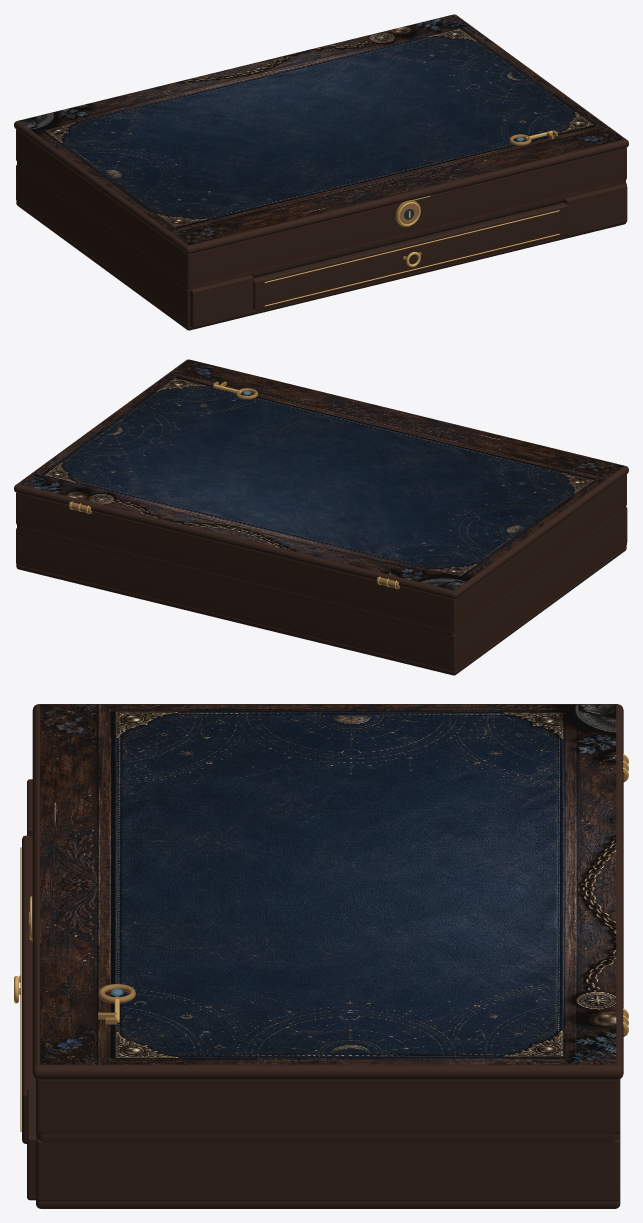
File: arcane-desk-wide-v1.glb
3 views of the same model, one above another, from view 1: azimuth 30°, elevation 25°; view 2: azimuth 150°, elevation 25°; view 3: azimuth 270°, elevation 25° (orthographic). The views are drawn at different scales.
Parts seen in each view (by area): view 1: OuterMatFace, CaseEnd, LightingDrawerFront, DeskLidCore, UnderframeSide, CaseSide, CaseBase, DrawerFrontSupport, DrawerFrontSupport.001, UnderframeBase, DrawerFrontInlay.001, DrawerFrontInlay; view 2: OuterMatFace, UnderframeBack, CaseEnd.001, DeskLidCore, UnderframeSide, CaseSide, CaseBase, UnderframeBase; view 3: OuterMatFace, UnderframeSide.001, CaseSide.001, DeskLidCore, CaseBase, UnderframeBase, LightingDrawerFront, UnderframeBack, DrawerFrontSupport.001, CaseEnd.001, CaseEnd.
Boxes of the visible parts, <box> form: OuterMatFace: <box>19,15,623,245</box>; CaseEnd: <box>183,147,626,286</box>; LightingDrawerFront: <box>253,202,567,310</box>; DeskLidCore: <box>14,14,628,254</box>; UnderframeSide: <box>20,169,190,326</box>; CaseSide: <box>19,132,194,285</box>; CaseBase: <box>17,162,625,290</box>; DrawerFrontSupport: <box>190,275,253,327</box>; DrawerFrontSupport.001: <box>562,184,627,236</box>; UnderframeBase: <box>16,201,625,330</box>; DrawerFrontInlay.001: <box>264,210,559,282</box>; DrawerFrontInlay: <box>265,234,559,306</box>; OuterMatFace: <box>19,360,623,590</box>; UnderframeBack: <box>16,528,459,671</box>; CaseEnd.001: <box>16,492,459,631</box>; DeskLidCore: <box>14,359,628,599</box>; UnderframeSide: <box>447,510,626,668</box>; CaseSide: <box>448,475,626,631</box>; CaseBase: <box>17,507,625,635</box>; UnderframeBase: <box>16,546,626,675</box>; OuterMatFace: <box>40,704,616,1064</box>; UnderframeSide.001: <box>36,1139,620,1201</box>; CaseSide.001: <box>37,1079,619,1133</box>; DeskLidCore: <box>32,704,623,1079</box>; CaseBase: <box>36,1131,620,1142</box>; UnderframeBase: <box>36,1199,620,1208</box>; LightingDrawerFront: <box>22,835,35,1143</box>; UnderframeBack: <box>604,1139,620,1201</box>; DrawerFrontSupport.001: <box>27,1088,36,1200</box>; CaseEnd.001: <box>606,1079,620,1133</box>; CaseEnd: <box>36,1079,49,1133</box>.
Size of the model in its own units: 10.68 by 2.07 by 7.58.
Materials: 12 (2 with a texture image).
